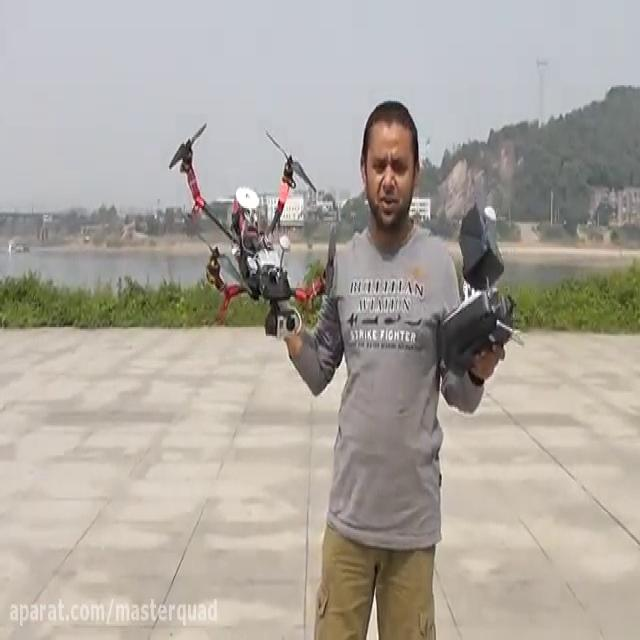drone: (166, 121, 337, 339)
